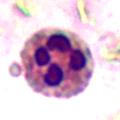neutrophil: (12, 26, 99, 98)
